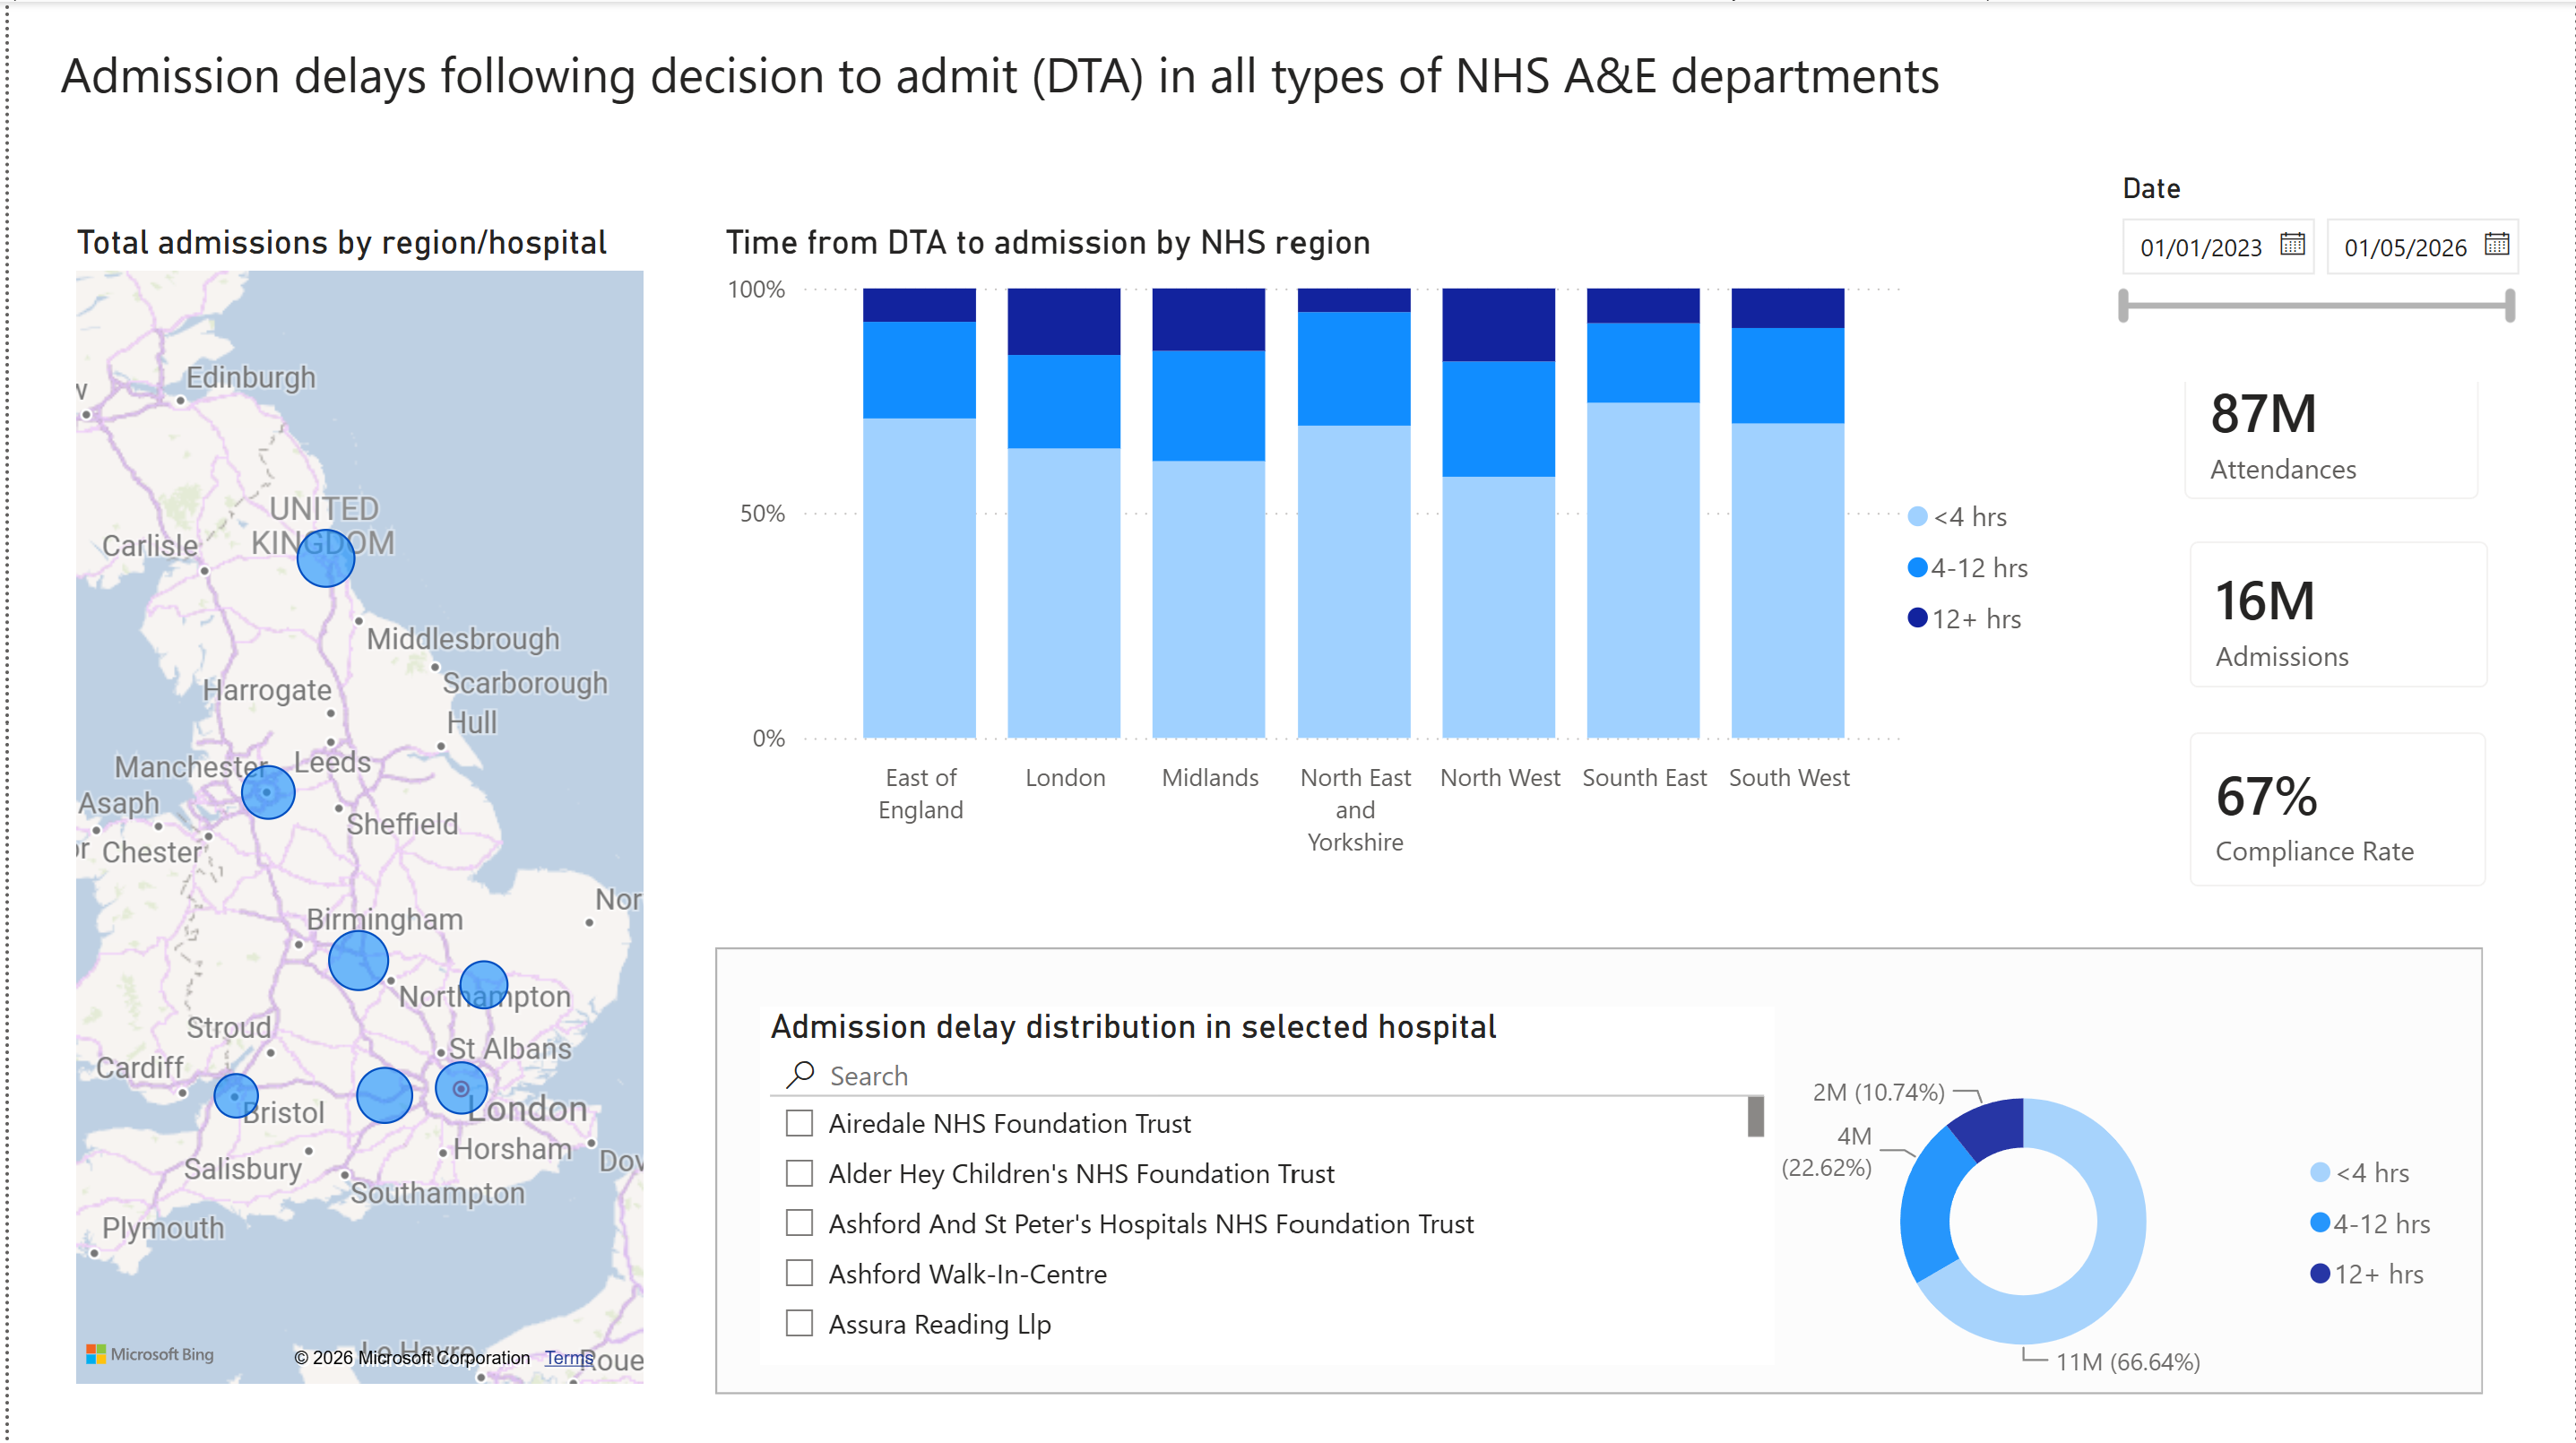

This screenshot's page, from the dashboard's own definition file:
{"tool":"powerbi","page":{"name":"DTA to Admit","canvas":[1280,720],"ordinal":1},"visuals":[{"type":"hundredPercentStackedColumnChart","title":"Time from DTA to admission by NHS region","fields":{"Y":["_Measures.Total Admissions within 4 hrs","Sum(Fact_AE_ref.4-12 hrs DTA to admission)","Sum(Fact_AE_ref.12+ hrs DTA to admission)"],"Category":["Dim_Org_ref.Short Parent Org name"]},"box":[352.3,110.2,669.3,323.9],"z":0},{"type":"donutChart","title":"Time from Decision to admit to Admission in the selected hospital","fields":{"Y":["_Measures.Total Admissions within 4 hrs","Sum(Fact_AE_ref.4-12 hrs DTA to admission)","Sum(Fact_AE_ref.12+ hrs DTA to admission)"]},"box":[858,522.7,364.8,171.6],"z":1000},{"type":"cardVisual","fields":{"Data":["_Measures.Total Attendances"]},"box":[1068.2,159.1,181.8,106.8],"z":2000},{"type":"cardVisual","fields":{"Data":["_Measures.Total Admissions"]},"box":[1070.2,252.4,183.4,107.4],"z":3000},{"type":"slicer","fields":{"Values":["Date.Date"]},"box":[1040.9,79.5,221.6,110.2],"z":4000},{"type":"shape","box":[352.7,471.3,881.7,223],"z":4500},{"type":"slicer","title":"Admission delay distribution in selected hospital","fields":{"Values":["Dim_Org_ref.Org name"]},"box":[375,501.1,505.7,178.4],"z":5000},{"type":"cardVisual","fields":{"Data":["_Measures.4hrs Compliance Rate Admissions"]},"box":[1070.2,346.6,182.4,111.5],"z":6000},{"type":"map","title":"Total admissions by region/hospital","fields":{"Size":["_Measures.Total Admissions"],"Category":["NHS Region.Region"]},"box":[28.4,110.2,293.2,584.1],"z":7000},{"type":"textbox","box":[20.8,14.5,1019.5,65.1],"z":8000}]}

Visuals, with their boxes in screenshot pixels (x1, y1, x2, y2), scaled from the page's 1280x720 canvas onto the 2576x1443 screenshot:
"Time from DTA to admission by NHS region" hundredPercentStackedColumnChart: [709, 220, 2056, 870]
"Time from Decision to admit to Admission in the selected hospital" donutChart: [1726, 1048, 2461, 1392]
cardVisual - _Measures.Total Attendances: [2149, 319, 2516, 533]
cardVisual - _Measures.Total Admissions: [2154, 505, 2523, 721]
slicer - Date.Date: [2095, 160, 2541, 380]
shape: [710, 945, 2485, 1392]
"Admission delay distribution in selected hospital" slicer: [755, 1005, 1772, 1361]
cardVisual - _Measures.4hrs Compliance Rate Admissions: [2154, 695, 2520, 918]
"Total admissions by region/hospital" map: [57, 220, 647, 1392]
textbox: [42, 29, 2094, 160]
